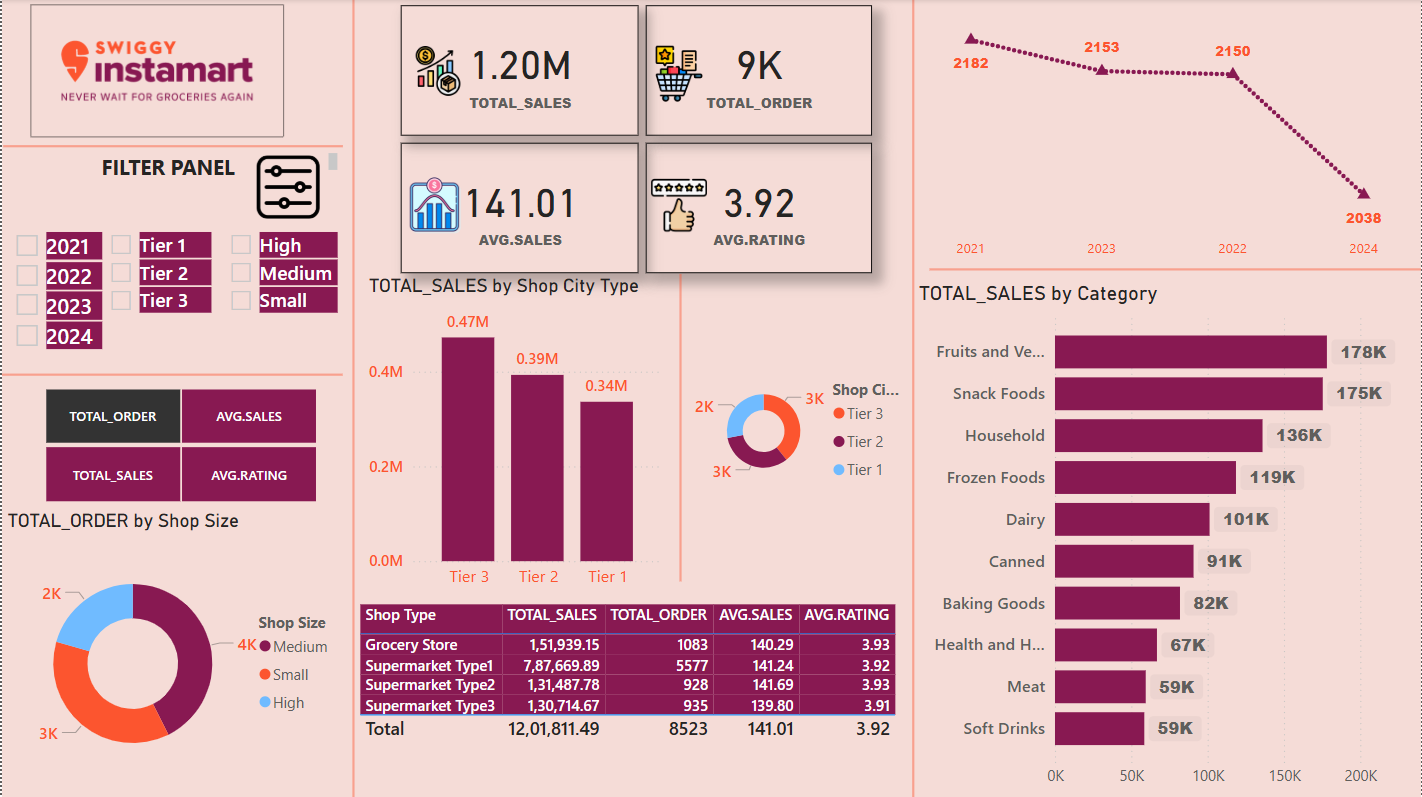

Layout of this report page (visuals, bound fields, positions):
{"tool":"powerbi","page":{"name":"SWIGGY INSTAMART DASHBORD","canvas":[1280,720],"ordinal":0},"visuals":[{"type":"shape","box":[0,0,1280.5,720],"z":0},{"type":"image","box":[0,0,279.7,130],"z":1000},{"type":"card","fields":{"Values":["Grocery Shop.TOTAL_SALES"]},"box":[359.4,6.1,214.7,117.8],"z":2000},{"type":"card","fields":{"Values":["Grocery Shop.AVG.RATING"]},"box":[580.2,130,203.6,117.8],"z":3000},{"type":"card","fields":{"Values":["Grocery Shop.AVG.SALES"]},"box":[359.4,130,214.7,117.8],"z":4000},{"type":"card","fields":{"Values":["Grocery Shop.TOTAL_ORDER"]},"box":[580.2,6.1,203.6,117.8],"z":5000},{"type":"image","box":[359.4,128.8,62.6,115.3],"z":6000},{"type":"image","box":[365.5,6.1,56.4,117.8],"z":7000},{"type":"image","box":[580.2,9.8,60.1,114.1],"z":8000},{"type":"image","box":[580.2,123.9,60.1,123.9],"z":9000},{"type":"donutChart","fields":{"Y":["Grocery Shop.TOTAL_ORDER"],"Category":["Grocery Shop.Shop City Type"]},"box":[620,255,200,270],"z":10000},{"type":"donutChart","fields":{"Y":["Grocery Shop.TOTAL_ORDER"],"Category":["Grocery Shop.Shop Size"]},"box":[0,460,316.2,260],"z":11000},{"type":"clusteredColumnChart","fields":{"Category":["Grocery Shop.Shop City Type"],"Y":["Grocery Shop.TOTAL_SALES"]},"box":[326.3,247.8,276,293.2],"z":12000},{"type":"tableEx","fields":{"Values":["Grocery Shop.Shop Type","Grocery Shop.TOTAL_SALES","Grocery Shop.TOTAL_ORDER","Grocery Shop.AVG.SALES","Grocery Shop.AVG.RATING"]},"box":[316.5,540.9,504.1,179.1],"z":13000},{"type":"lineChart","fields":{"Category":["Grocery Shop.Shop Opening Year"],"Y":["Grocery Shop.TOTAL_ORDER"]},"box":[821.8,6.1,458.7,238],"z":14000},{"type":"clusteredBarChart","fields":{"Category":["Grocery Shop.Category"],"Y":["Grocery Shop.TOTAL_SALES"]},"box":[821.8,255.1,458.7,464.9],"z":15000},{"type":"slicer","fields":{"Values":["Grocery Shop.Shop Opening Year"]},"box":[0,202.4,95.7,130],"z":16000},{"type":"slicer","fields":{"Values":["Grocery Shop.Shop City Type"]},"box":[85.9,202.4,107.9,117.8],"z":17000},{"type":"slicer","fields":{"Values":["Grocery Shop.Shop Size"]},"box":[193.8,202.4,114.1,104.3],"z":18000},{"type":"textbox","box":[0,133.8,307.5,36.2],"z":19000},{"type":"image","box":[210,136.2,97.5,66.2],"z":20000},{"type":"shape","box":[0,332.5,307.5,12.5],"z":21000},{"type":"shape","box":[836.5,218.3,444,50.3],"z":22000},{"type":"shape","box":[1.2,130,306.2,6.2],"z":23000},{"type":"shape","box":[607.2,247.8,8.6,277.2],"z":24000},{"type":"shape","box":[307.5,0,18.8,720],"z":25000},{"type":"shape","box":[807.1,0,29.3,720.2],"z":26000},{"type":"slicer","fields":{"Values":["DYANAMIC MEASURE.DYANAMIC MEASURE"]},"box":[13.8,345,293.8,115],"z":27000}]}

Visuals, with their boxes in screenshot pixels (x1, y1, x2, y2), scaled from the page's 1280x720 canvas onto the 1422x797 screenshot:
shape: pyautogui.locateOnScreen(0, 0, 1421, 796)
image: pyautogui.locateOnScreen(0, 0, 311, 144)
card - Grocery Shop.TOTAL_SALES: pyautogui.locateOnScreen(399, 7, 638, 137)
card - Grocery Shop.AVG.RATING: pyautogui.locateOnScreen(645, 144, 871, 274)
card - Grocery Shop.AVG.SALES: pyautogui.locateOnScreen(399, 144, 638, 274)
card - Grocery Shop.TOTAL_ORDER: pyautogui.locateOnScreen(645, 7, 871, 137)
image: pyautogui.locateOnScreen(399, 143, 469, 270)
image: pyautogui.locateOnScreen(406, 7, 469, 137)
image: pyautogui.locateOnScreen(645, 11, 711, 137)
image: pyautogui.locateOnScreen(645, 137, 711, 274)
donutChart - Grocery Shop.TOTAL_ORDER x Grocery Shop.Shop City Type: pyautogui.locateOnScreen(689, 282, 911, 581)
donutChart - Grocery Shop.TOTAL_ORDER x Grocery Shop.Shop Size: pyautogui.locateOnScreen(0, 509, 351, 796)
clusteredColumnChart - Grocery Shop.Shop City Type x Grocery Shop.TOTAL_SALES: pyautogui.locateOnScreen(362, 274, 669, 599)
tableEx - Grocery Shop.Shop Type x Grocery Shop.TOTAL_SALES: pyautogui.locateOnScreen(352, 599, 912, 796)
lineChart - Grocery Shop.Shop Opening Year x Grocery Shop.TOTAL_ORDER: pyautogui.locateOnScreen(913, 7, 1421, 270)
clusteredBarChart - Grocery Shop.Category x Grocery Shop.TOTAL_SALES: pyautogui.locateOnScreen(913, 282, 1421, 796)
slicer - Grocery Shop.Shop Opening Year: pyautogui.locateOnScreen(0, 224, 106, 368)
slicer - Grocery Shop.Shop City Type: pyautogui.locateOnScreen(95, 224, 215, 354)
slicer - Grocery Shop.Shop Size: pyautogui.locateOnScreen(215, 224, 342, 339)
textbox: pyautogui.locateOnScreen(0, 148, 342, 188)
image: pyautogui.locateOnScreen(233, 151, 342, 224)
shape: pyautogui.locateOnScreen(0, 368, 342, 382)
shape: pyautogui.locateOnScreen(929, 242, 1421, 297)
shape: pyautogui.locateOnScreen(1, 144, 342, 151)
shape: pyautogui.locateOnScreen(675, 274, 684, 581)
shape: pyautogui.locateOnScreen(342, 0, 362, 796)
shape: pyautogui.locateOnScreen(897, 0, 929, 796)
slicer - DYANAMIC MEASURE.DYANAMIC MEASURE: pyautogui.locateOnScreen(15, 382, 342, 509)
